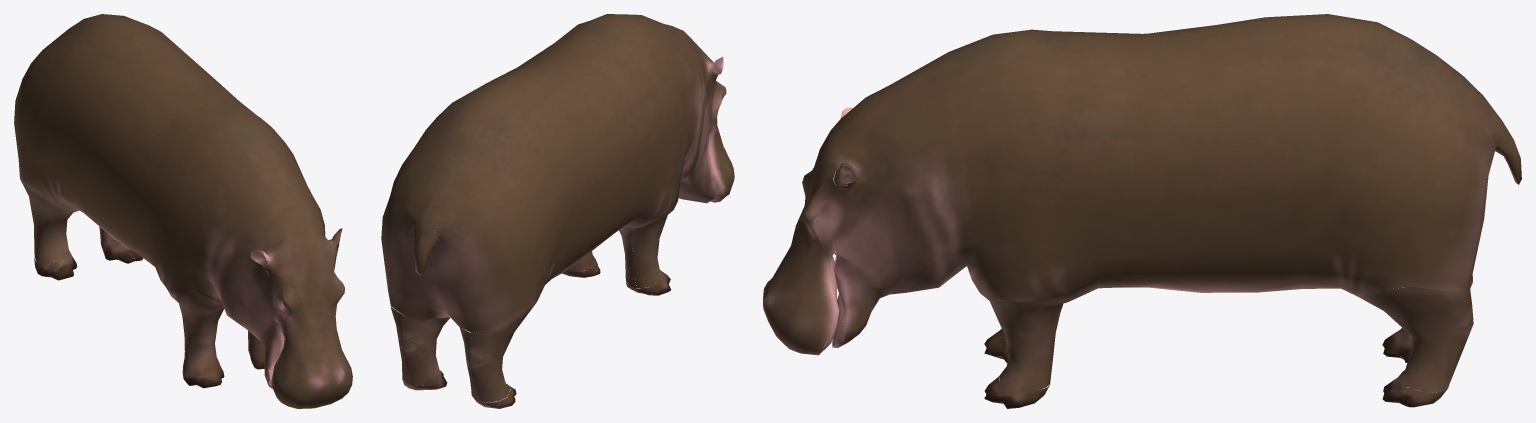
File: moodeng_plush.glb
The picture shows the model from 3 angles, left to right: view 1: azimuth 30°, elevation 25°; view 2: azimuth 150°, elevation 25°; view 3: azimuth 270°, elevation 25°; orthographic projection. The views are drawn at different scales.
Visible parts, largest first — view 1: LowPoly__0; view 2: LowPoly__0; view 3: LowPoly__0.
Part boxes in pixels (bbox=[...]): LowPoly__0: bbox=[14, 14, 352, 408]; LowPoly__0: bbox=[381, 14, 734, 408]; LowPoly__0: bbox=[763, 14, 1521, 408].
Size of the model in its own units: 0.1455 by 0.26 by 0.4994.
Materials: 1 (1 with a texture image).
